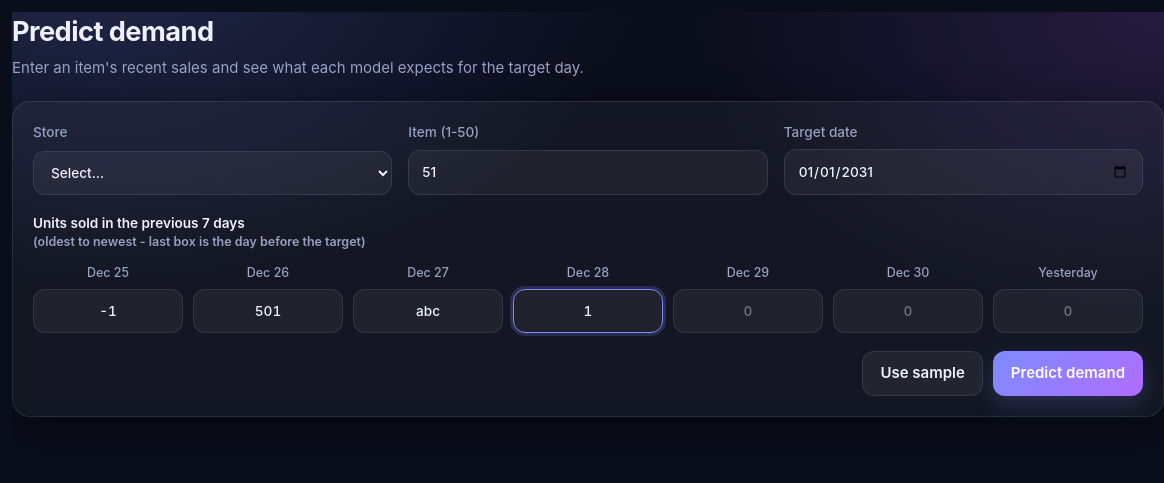
Test: TC-04: client-side validation › blocks the request and shows field errors for out-of-range inputs
Earlier steps of the test are not shown.
Type "1" into the field named "Sales " at (748, 311), box 673,289 -> 823,333
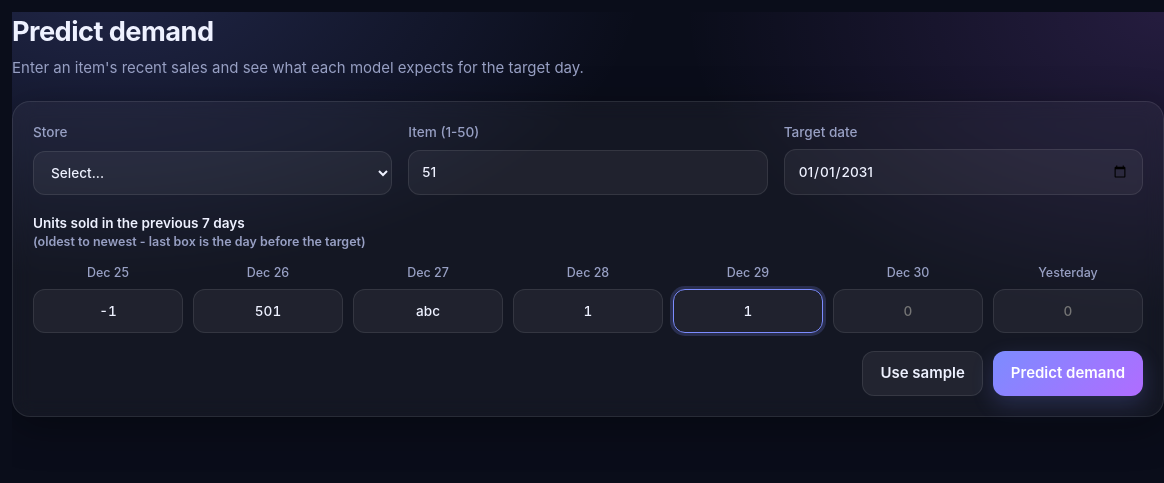
Type "1" into the field named "Sales " at (908, 311), box 833,289 -> 983,333
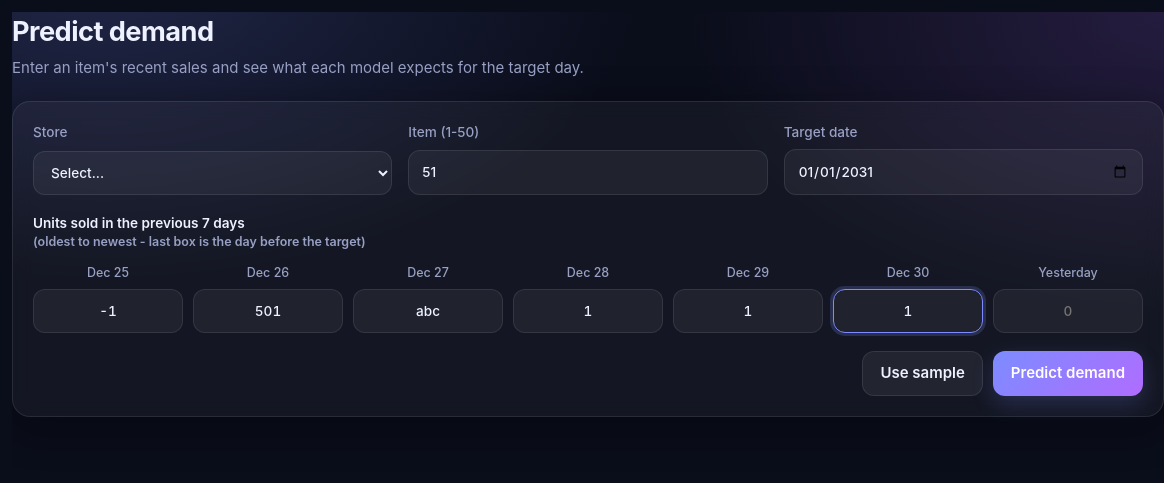
Type "1" into the field named "Sales " at (1068, 311), box 993,289 -> 1143,333
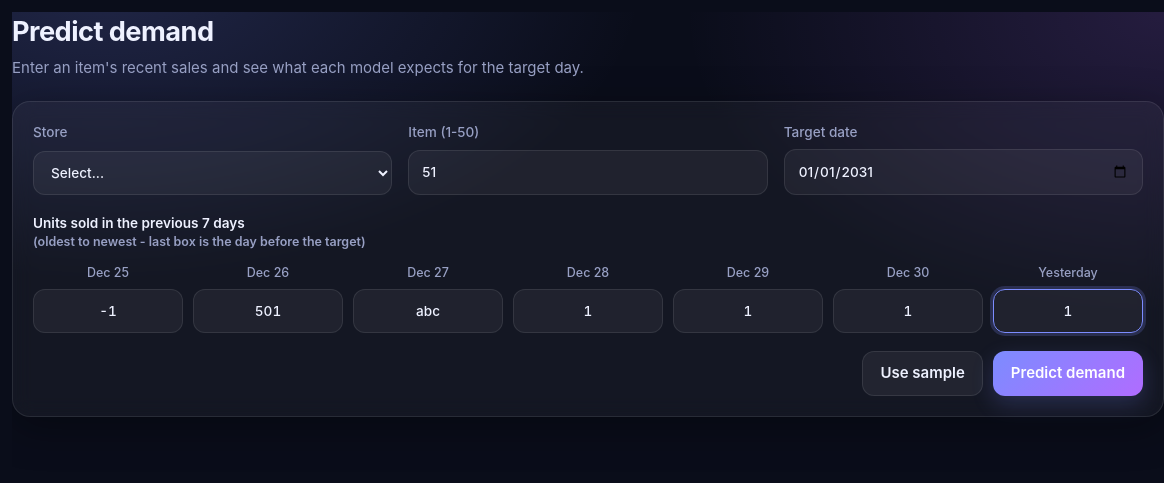
Click the button "Predict demand" at (1068, 374), box 993,351 -> 1143,396
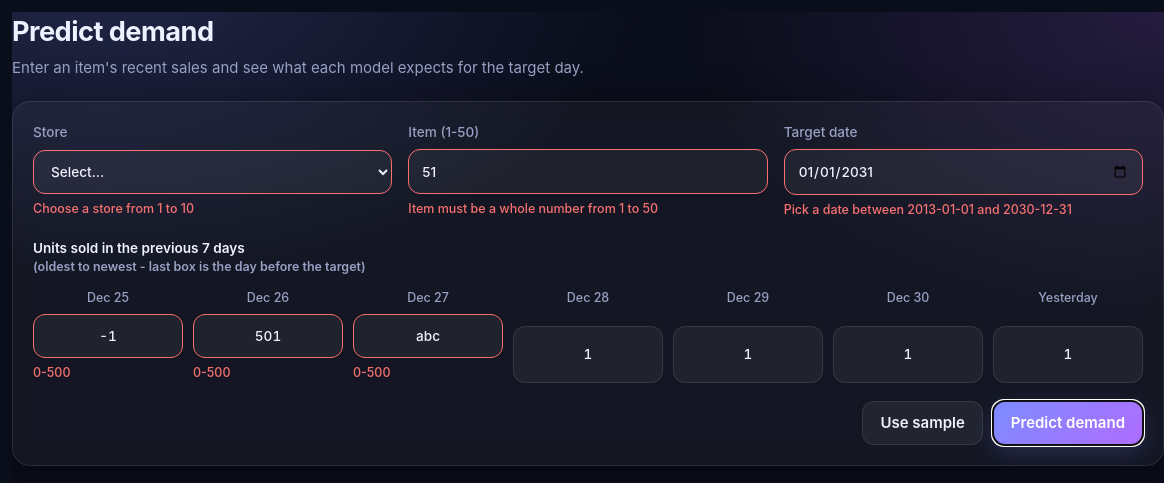
Check: the text "Choose a store from 1 to 10" is shown, box 33,201 -> 194,216
Check: the text "Item must be a whole number from 1 to 50" is shown, box 408,201 -> 658,216
Check: the text "Pick a date between 2013-01-01 and 2030-12-31" is shown, box 784,202 -> 1072,217
